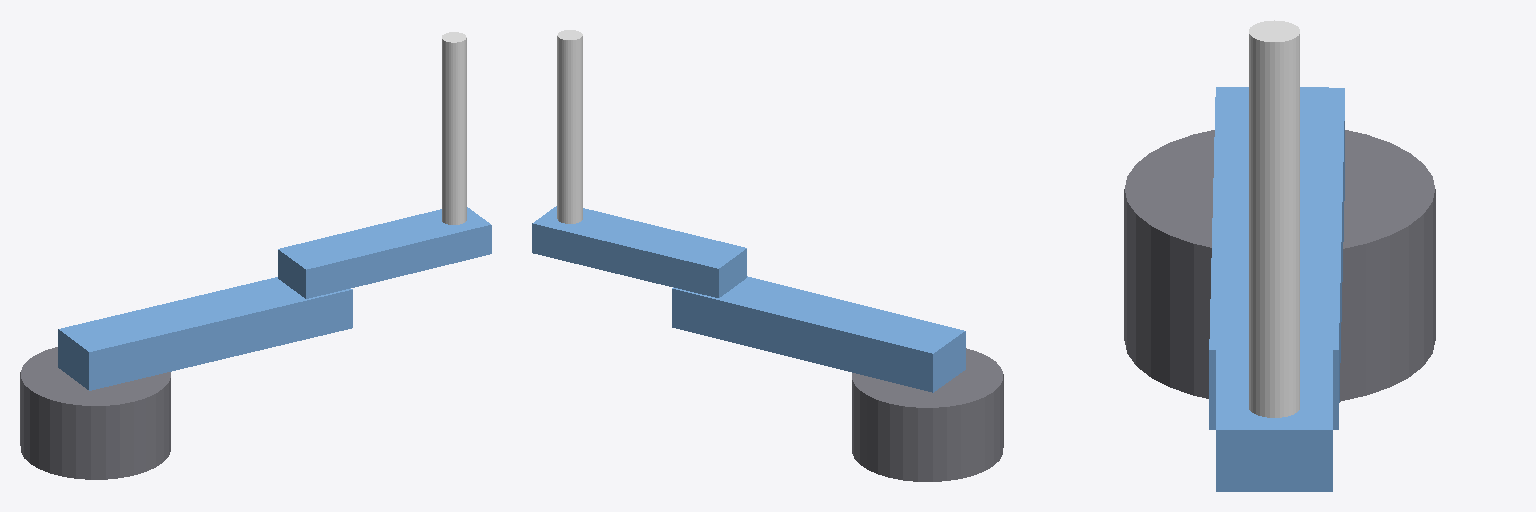
robot.urdf — ensamblador2:
<?xml version='1.0' encoding='utf-8'?>
<robot name="ensamblador2">
  <!-- GENERADO por herramientas/preparar_urdf.py a partir de originales/ensamblador2_Ensamble.urdf. No editar a mano: editar el original o la herramienta y regenerar. -->
  <link name="world" />
  <joint name="world_joint" type="fixed">
    <parent link="world" />
    <child link="base_link" />
    <origin xyz="0 0 0" rpy="0 0 0" />
  </joint>
  <link name="base_link">
    <inertial>
      <origin xyz="-0.056032 0.0033807 0.021531" rpy="0 0 0" />
      <mass value="0.85079" />
      <inertia ixx="0.0019389" ixy="-9.299E-06" ixz="-1.6398E-05" iyy="0.0036565" iyz="2.4252E-06" izz="0.0050574" />
    </inertial>
    <visual>
      <origin xyz="0 0 0.03235" rpy="0 0 0" />
      <geometry>
        <cylinder radius="0.06" length="0.0647" />
      </geometry>
      <material name="forma_base_link">
        <color rgba="0.55 0.55 0.58 1" />
      </material>
    </visual>
  </link>
  <link name="link_1">
    <inertial>
      <origin xyz="0.042088 0 0.017457" rpy="0 0 0" />
      <mass value="0.93496" />
      <inertia ixx="0.00079423" ixy="3.6586E-08" ixz="1.4041E-05" iyy="0.0013551" iyz="-5.3153E-08" izz="0.0019619" />
    </inertial>
    <visual>
      <origin xyz="0.1 0 0.017" rpy="0 0 0" />
      <geometry>
        <box size="0.24 0.05 0.034" />
      </geometry>
      <material name="forma_link_1">
        <color rgba="0.55 0.75 0.95 1" />
      </material>
    </visual>
  </link>
  <joint name="J1" type="continuous">
    <origin xyz="0 0 0.0647" rpy="0 0 -0.010482" />
    <parent link="base_link" />
    <child link="link_1" />
    <axis xyz="0 0 1" />
    <limit effort="100.0" velocity="10.0" />
    <dynamics damping="1" friction="1" />
  </joint>
  <link name="link_2">
    <inertial>
      <origin xyz="0.070392 0 0.055205" rpy="0 0 0" />
      <mass value="0.69898" />
      <inertia ixx="0.00082607" ixy="0.00015781" ixz="3.2603E-06" iyy="0.0016472" iyz="-1.1473E-06" izz="0.0022106" />
    </inertial>
    <visual>
      <origin xyz="0.0636 0 0.0128" rpy="0 0 0" />
      <geometry>
        <box size="0.17 0.045 0.026" />
      </geometry>
      <material name="forma_link_2">
        <color rgba="0.55 0.75 0.95 1" />
      </material>
    </visual>
  </link>
  <joint name="J2" type="continuous">
    <origin xyz="0.2 0 0.034" rpy="0 0 0.010482" />
    <parent link="link_1" />
    <child link="link_2" />
    <axis xyz="0 0 1" />
    <limit effort="100.0" velocity="10.0" />
    <dynamics damping="1.0" friction="1.0" />
  </joint>
  <link name="link_3">
    <inertial>
      <origin xyz="0.00088875 0 -0.079824" rpy="0 0 0" />
      <mass value="0.15047" />
      <inertia ixx="0.00031185" ixy="-3.3248E-08" ixz="1.37E-05" iyy="0.00031502" iyz="1.4361E-07" izz="2.885E-05" />
    </inertial>
    <visual>
      <origin xyz="0 0 -0.08" rpy="0 0 0" />
      <geometry>
        <cylinder radius="0.01" length="0.16" />
      </geometry>
      <material name="forma_link_3">
        <color rgba="0.95 0.95 0.95 1" />
      </material>
    </visual>
  </link>
  <joint name="J3" type="prismatic">
    <origin xyz="0.12728 0 0.025709" rpy="-3.1416 0 0" />
    <parent link="link_2" />
    <child link="link_3" />
    <axis xyz="0 0 1" />
    <limit lower="0" upper="0.1" effort="1000" velocity="10.0" />
    <dynamics damping="1.0" friction="5.0" />
  </joint>
  <gazebo reference="link_1">
    <gravity>0</gravity>
  </gazebo>
  <gazebo reference="link_2">
    <gravity>0</gravity>
  </gazebo>
  <gazebo reference="link_3">
    <gravity>0</gravity>
  </gazebo>
  <gazebo>
    <plugin filename="gz-sim-joint-position-controller-system" name="gz::sim::systems::JointPositionController">
      <joint_name>J1</joint_name>
      <topic>/ensamblador2/J1/cmd_pos</topic>
      <p_gain>120.0</p_gain>
      <i_gain>40.0</i_gain>
      <d_gain>6.0</d_gain>
      <i_max>20.0</i_max>
      <i_min>-20.0</i_min>
      <cmd_max>60.0</cmd_max>
      <cmd_min>-60.0</cmd_min>
    </plugin>
  </gazebo>
  <gazebo>
    <plugin filename="gz-sim-joint-position-controller-system" name="gz::sim::systems::JointPositionController">
      <joint_name>J2</joint_name>
      <topic>/ensamblador2/J2/cmd_pos</topic>
      <p_gain>120.0</p_gain>
      <i_gain>40.0</i_gain>
      <d_gain>6.0</d_gain>
      <i_max>20.0</i_max>
      <i_min>-20.0</i_min>
      <cmd_max>60.0</cmd_max>
      <cmd_min>-60.0</cmd_min>
    </plugin>
  </gazebo>
  <gazebo>
    <plugin filename="gz-sim-joint-position-controller-system" name="gz::sim::systems::JointPositionController">
      <joint_name>J3</joint_name>
      <topic>/ensamblador2/J3/cmd_pos</topic>
      <p_gain>800.0</p_gain>
      <i_gain>100.0</i_gain>
      <d_gain>40.0</d_gain>
      <i_max>50.0</i_max>
      <i_min>-50.0</i_min>
      <cmd_max>200.0</cmd_max>
      <cmd_min>-200.0</cmd_min>
    </plugin>
  </gazebo>
  <gazebo>
    <plugin filename="gz-sim-joint-state-publisher-system" name="gz::sim::systems::JointStatePublisher" />
  </gazebo>
</robot>

--- What the picture shows (computed from the rendered views, not written in the file) ---
3 views of the same robot in one strip: view 1: azimuth 30°, elevation 25°; view 2: azimuth 150°, elevation 25°; view 3: azimuth 270°, elevation 25° (orthographic).
Model ensamblador2 with 5 links and 4 joints (2 continuous, 1 prismatic, 1 fixed), rooted at world, posed all joints at 0.
Visible links, largest first — view 1: link_1, base_link, link_2, link_3; view 2: link_1, base_link, link_2, link_3; view 3: base_link, link_2, link_3, link_1.
Link boxes in pixels (x1,y1,x2,y2): link_1: (58, 277, 352, 390); base_link: (20, 347, 170, 479); link_2: (278, 207, 491, 298); link_3: (442, 32, 466, 224); link_1: (672, 276, 965, 392); base_link: (852, 348, 1003, 481); link_2: (532, 206, 746, 297); link_3: (557, 30, 582, 223); base_link: (1124, 130, 1435, 401); link_2: (1216, 244, 1332, 491); link_3: (1249, 20, 1299, 417); link_1: (1209, 87, 1344, 429).
Bounding box of the posed robot: 0.4086 × 0.12 × 0.2844 m (x, y, z).
Geometry: primitives only (box / cylinder / sphere), no mesh files.
